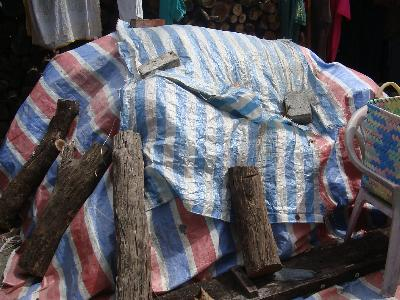plastic_bag: (1, 21, 398, 300)
